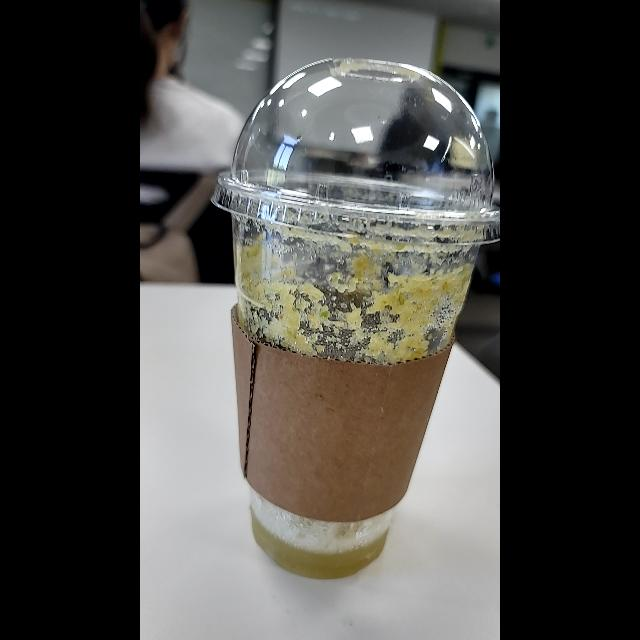plastic_cup: (214, 55, 500, 581)
plastic_cup_lid: (208, 53, 500, 253)
